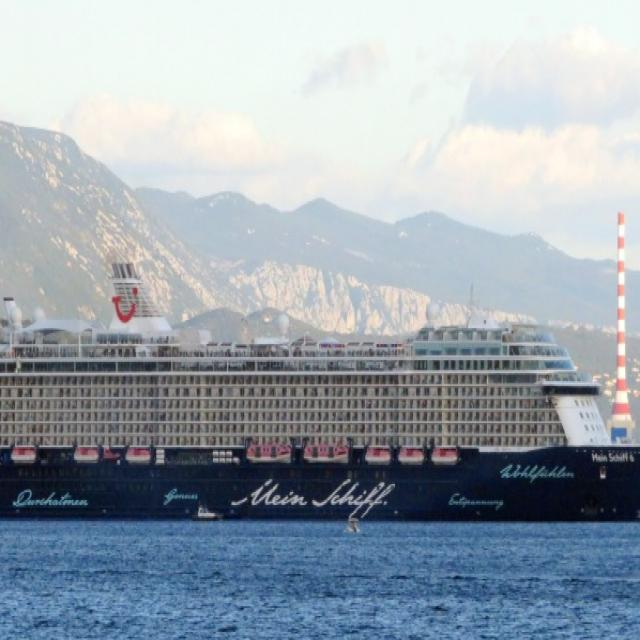cruises: (1, 257, 640, 541)
